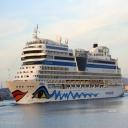cruises: (6, 21, 127, 106)
